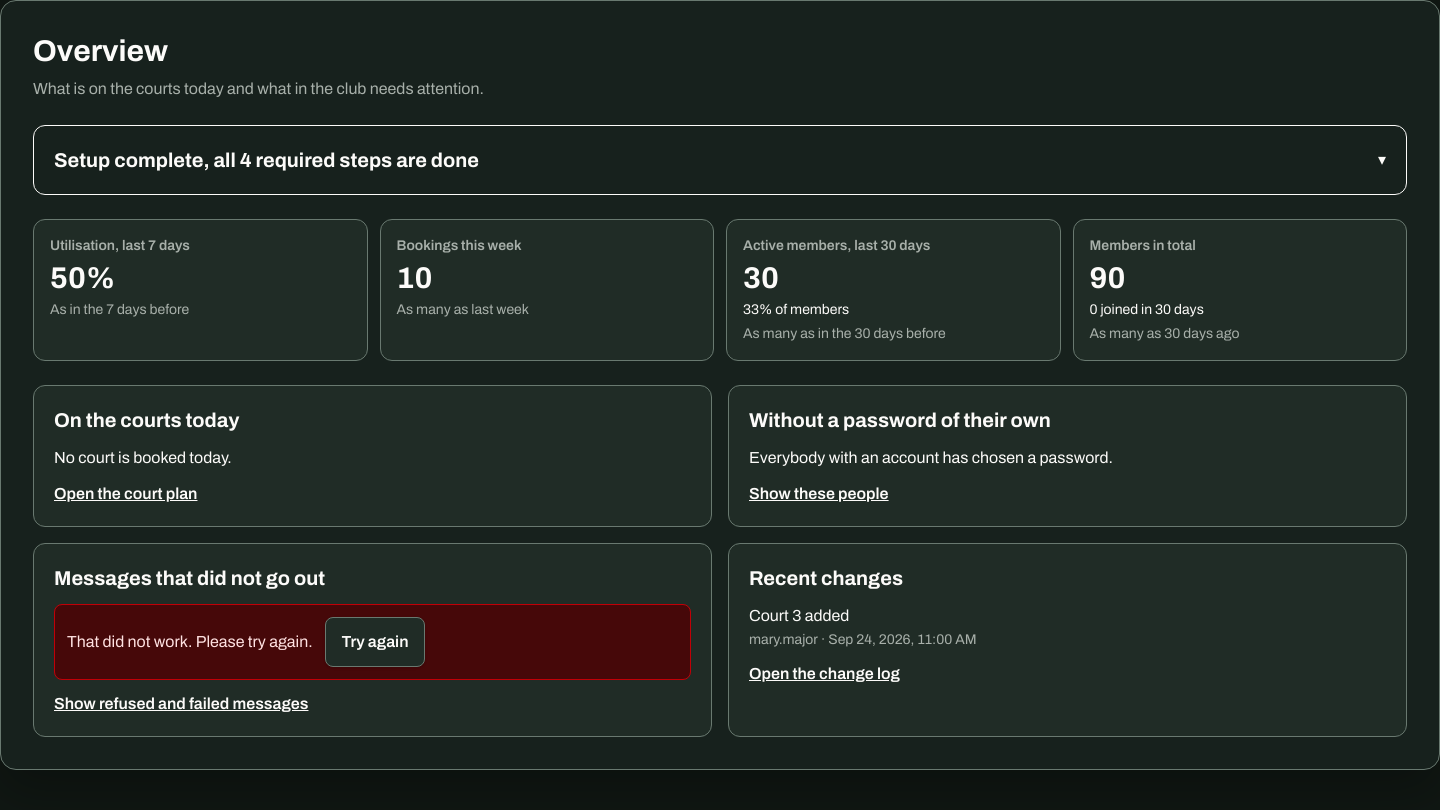
Test case: AdminOverviewView › given one read fails, when the overview opens, then only its card reports it and a retry repeats only that read
Check: the message with test id "load-failure" shows "That did not work. Please try again.", box x1=67 y1=633 x2=313 y2=650
Check: the list item with test id "overview-changes-entry" is shown, box x1=749 y1=607 x2=976 y2=647
Click the button with test id "retry-load" at (375, 642), box x1=325 y1=617 x2=426 y2=667
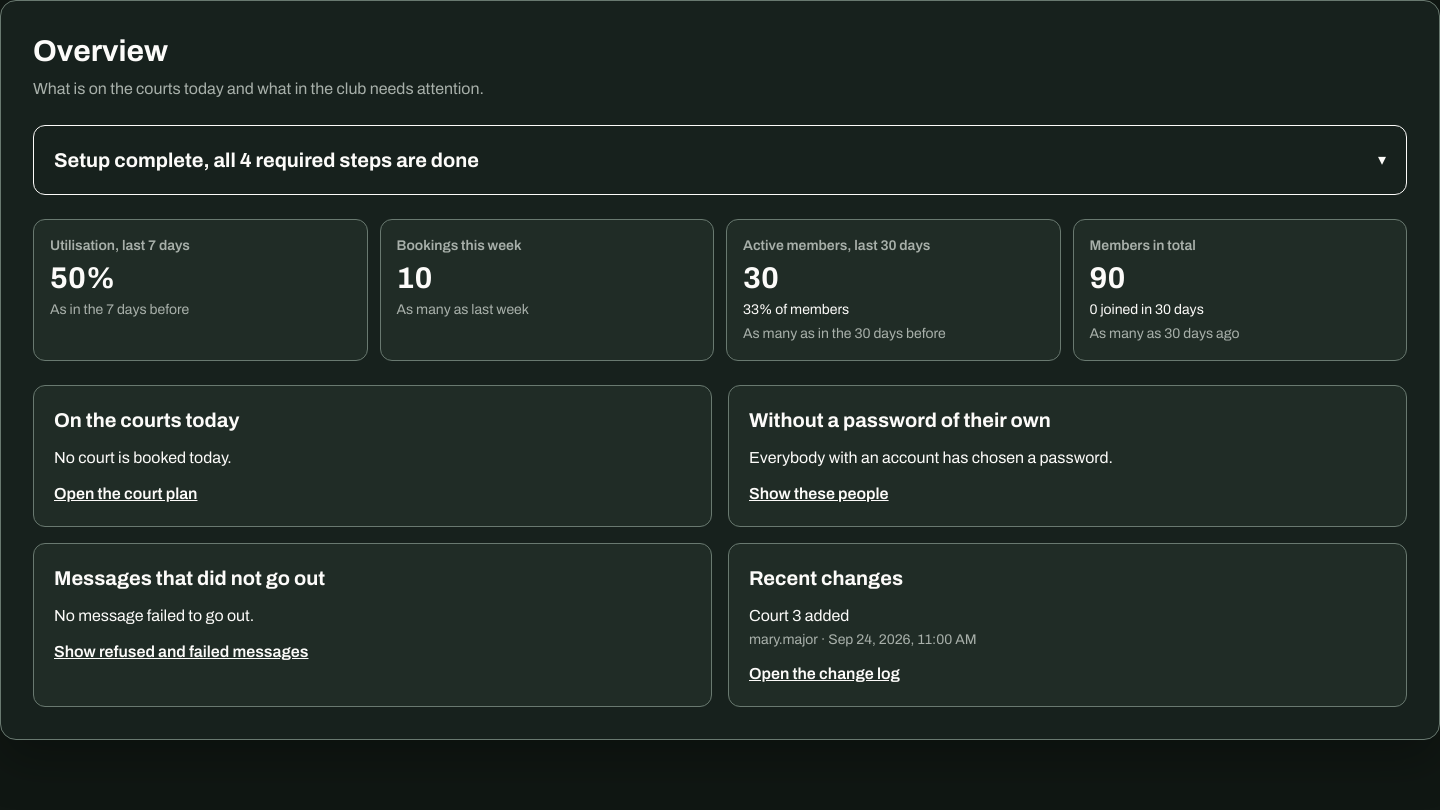
Check: the text "No message failed to go out." is shown, box x1=54 y1=607 x2=254 y2=624
Check: the message with test id "load-failure" is gone
